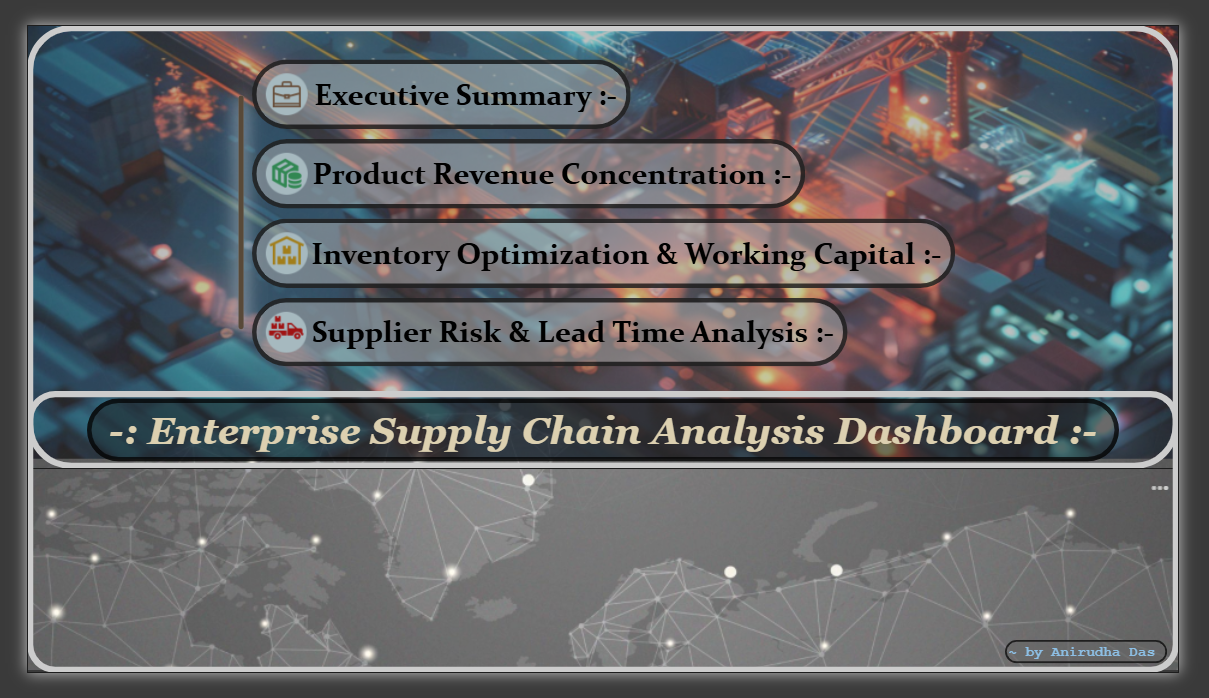

The page's visual inventory and layout, read from the dashboard file:
{"tool":"powerbi","page":{"name":"Home Page :-","canvas":[1280,720],"ordinal":0},"visuals":[{"type":"group","id":"g1","title":"Group 1","box":[0,0,1279.5,719.2],"z":0},{"type":"shape","box":[0,0,1280,493.3],"z":0,"group":"g1"},{"type":"actionButton","box":[249.8,37.9,420.9,77.2],"z":1000,"group":"g2"},{"type":"shape","box":[0,406.7,1280,313.3],"z":1000,"group":"g1"},{"type":"actionButton","box":[249.8,126.2,614.8,77.2],"z":2000,"group":"g2"},{"type":"shape","box":[66.7,415,1146.7,70],"z":2000,"group":"g1"},{"type":"shape","box":[1087.2,682.9,180.2,25.7],"z":2000},{"type":"actionButton","box":[249.8,302.9,661.7,75.7],"z":3000,"group":"g2"},{"type":"actionButton","box":[249.8,214.6,781.3,77.2],"z":4000,"group":"g2"},{"type":"shape","box":[166.6,59.1,142.3,299.8],"z":5000},{"type":"group","id":"g2","title":"Group 2","box":[249.8,37.9,781.3,340.7],"z":6003}]}

Visuals, with their boxes in screenshot pixels (x1, y1, x2, y2), scaled from the page's 1280x720 canvas onto the 1209x698 screenshot:
"Group 1" group: (0,0,1208,697)
shape: (0,0,1208,478)
actionButton: (236,37,633,112)
shape: (0,394,1208,697)
actionButton: (236,122,817,197)
shape: (63,402,1146,470)
shape: (1027,662,1197,687)
actionButton: (236,294,861,367)
actionButton: (236,208,974,283)
shape: (157,57,292,348)
"Group 2" group: (236,37,974,367)
